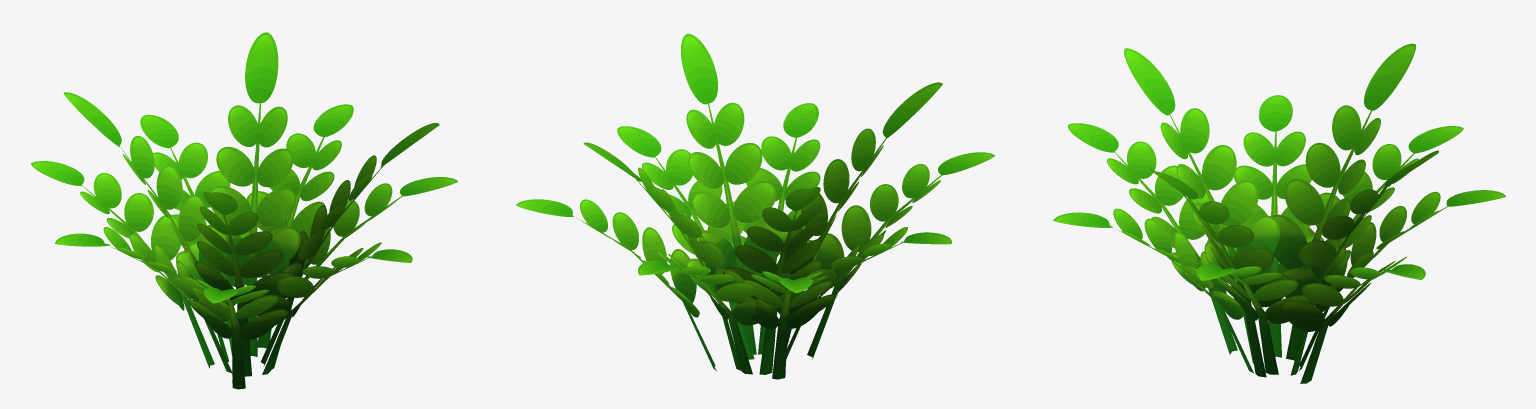
The model's file is Bush_03.FBX.
The picture shows the model from 3 angles, left to right: view 1: azimuth 30°, elevation 25°; view 2: azimuth 150°, elevation 25°; view 3: azimuth 270°, elevation 25°; orthographic projection. The views are drawn at different scales.
Visible parts, largest first — view 1: Bush_03; view 2: Bush_03; view 3: Bush_03.
Part boxes in pixels (x1,y1,x2,y2): Bush_03: (31, 32, 458, 389); Bush_03: (516, 33, 994, 379); Bush_03: (1053, 43, 1506, 383).
Bounding box in the file's own units: 72.85 × 47.45 × 74.22.
